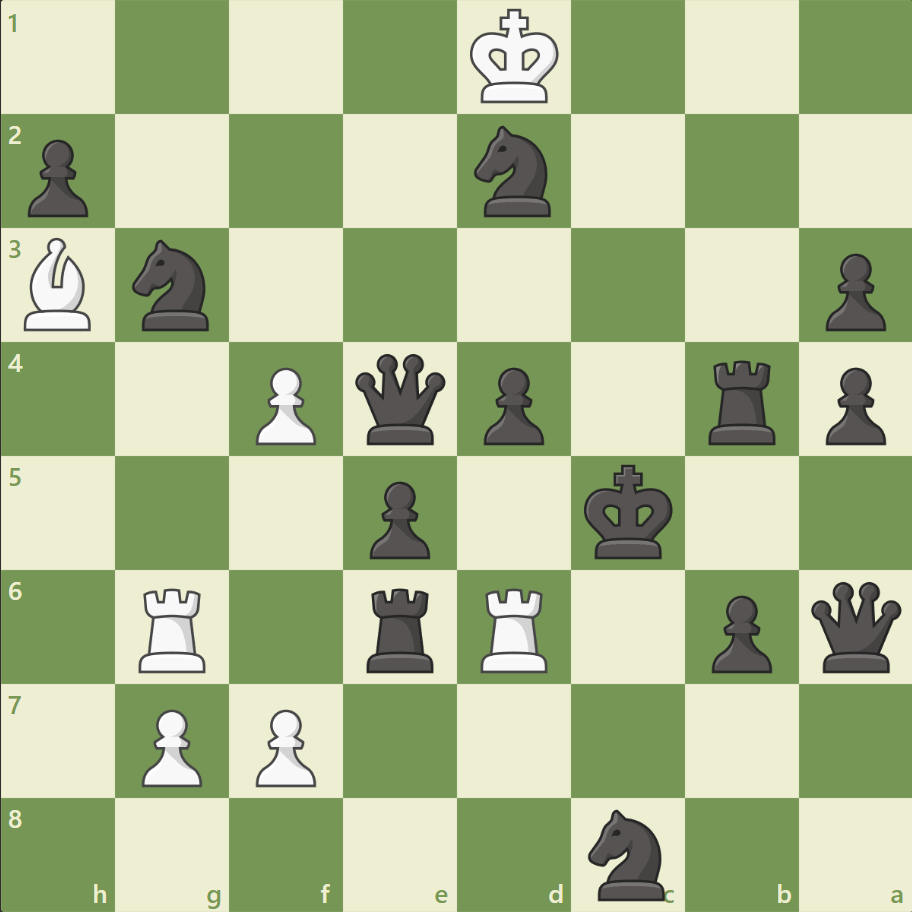B: (17, 233, 101, 336)
K: (465, 4, 565, 112)
P: (247, 700, 322, 791), (133, 700, 208, 791), (247, 359, 322, 450)
R: (473, 579, 556, 676), (133, 579, 215, 676)
k: (579, 458, 679, 566)
n: (124, 234, 222, 337), (579, 802, 676, 904), (465, 121, 562, 223)
p: (701, 586, 776, 677), (474, 359, 549, 450), (20, 132, 95, 223), (361, 473, 435, 564), (815, 359, 889, 450), (815, 246, 889, 337)
q: (805, 576, 904, 676), (351, 349, 450, 449)
r: (700, 352, 783, 449), (360, 579, 442, 676)
